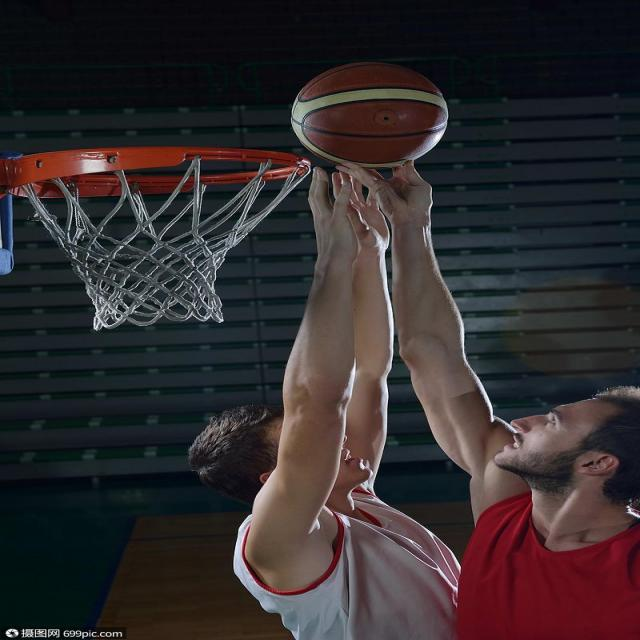rim: (294, 60, 450, 169)
